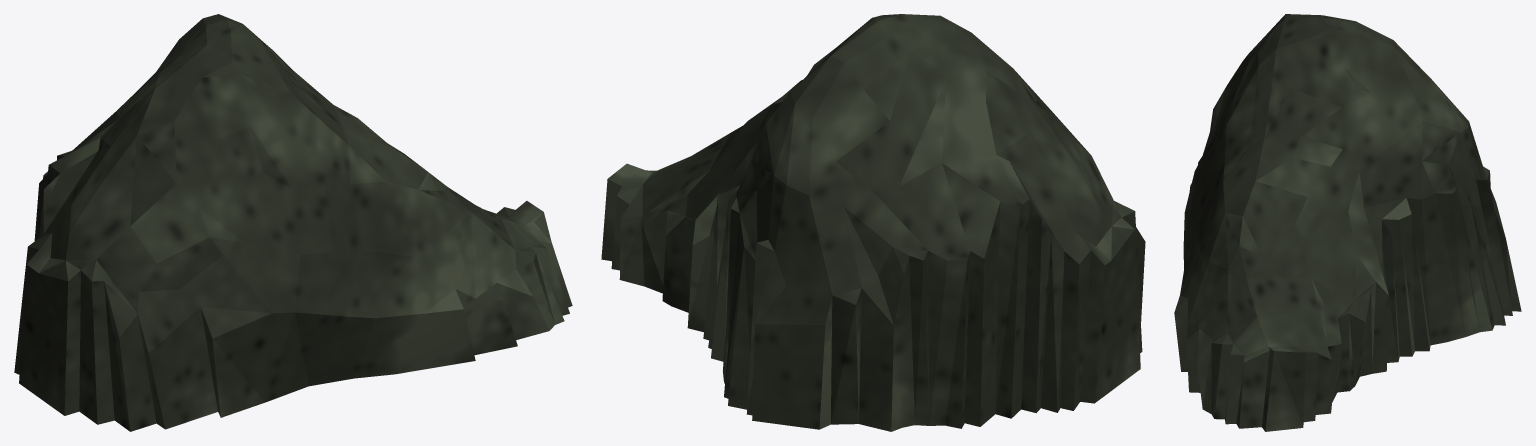
File: CRERock10.glb
The picture shows the model from 3 angles, left to right: view 1: azimuth 30°, elevation 25°; view 2: azimuth 150°, elevation 25°; view 3: azimuth 270°, elevation 25°; orthographic projection. The views are drawn at different scales.
Visible parts, largest first — view 1: CRERock10_rock; view 2: CRERock10_rock; view 3: CRERock10_rock.
Part boxes in pixels (<box>): CRERock10_rock: <box>14,14,572,431</box>; CRERock10_rock: <box>601,14,1145,431</box>; CRERock10_rock: <box>1174,14,1521,431</box>.
Size of the model in its own units: 2.71 by 1.62 by 1.81.
Materials: 1 (1 with a texture image).
